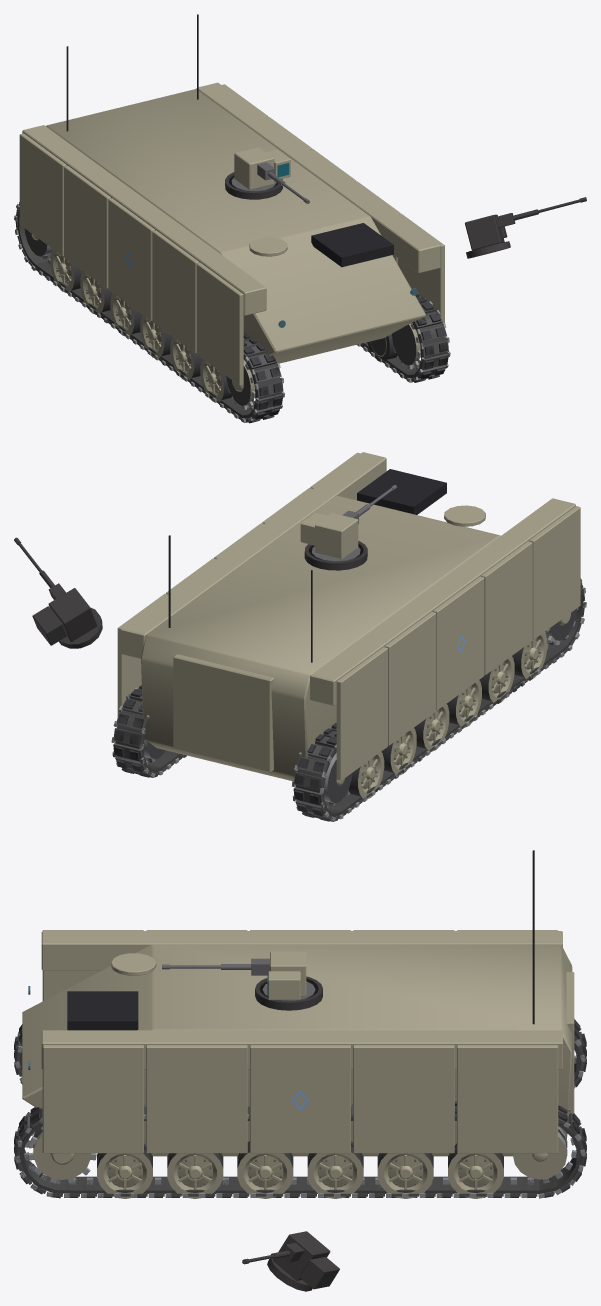
The model's file is apc__saad_m113.glb.
The picture shows the model from 3 angles, top to bottom: view 1: azimuth 30°, elevation 25°; view 2: azimuth 150°, elevation 25°; view 3: azimuth 270°, elevation 25°; orthographic projection. The views are drawn at different scales.
Visible parts, largest first — view 1: Hull_Mesh, Wreck, Track_L_Mesh, Track_R_Mesh, Turret_Mesh, Sprocket_R_Mesh, Wheel_L0_Mesh, Wheel_L4_Mesh, Wheel_L1_Mesh, Wheel_L3_Mesh, Wheel_L2_Mesh, Wheel_L5_Mesh (+1 smaller); view 2: Hull_Mesh, Wreck, Track_L_Mesh, Track_R_Mesh, Turret_Mesh, Wheel_L2_Mesh, Wheel_L0_Mesh, Wheel_L5_Mesh, Wheel_L1_Mesh, Wheel_L3_Mesh, Wheel_L4_Mesh, Idler_L_Mesh (+1 smaller); view 3: Hull_Mesh, Track_R_Mesh, Wreck, Wheel_R3_Mesh, Wheel_R2_Mesh, Wheel_R0_Mesh, Wheel_R5_Mesh, Wheel_R1_Mesh, Wheel_R4_Mesh, Turret_Mesh, Sprocket_R_Mesh, Idler_R_Mesh (+2 smaller).
Boxes of the visible parts, x1,y1,x2,y2 form: Hull_Mesh: (19, 14, 444, 385); Wreck: (14, 172, 586, 421); Track_L_Mesh: (14, 202, 284, 423); Track_R_Mesh: (357, 293, 450, 382); Turret_Mesh: (231, 147, 290, 191); Sprocket_R_Mesh: (390, 323, 420, 369); Wheel_L0_Mesh: (50, 249, 82, 292); Wheel_L4_Mesh: (170, 337, 202, 379); Wheel_L1_Mesh: (80, 271, 112, 314); Wheel_L3_Mesh: (140, 315, 172, 357); Wheel_L2_Mesh: (110, 293, 142, 336); Wheel_L5_Mesh: (200, 359, 231, 401); Hull_Mesh: (117, 452, 580, 781); Wreck: (14, 537, 585, 820); Track_L_Mesh: (291, 580, 586, 821); Track_R_Mesh: (111, 685, 186, 777); Turret_Mesh: (300, 513, 360, 561); Wheel_L2_Mesh: (414, 704, 449, 751); Wheel_L0_Mesh: (348, 751, 384, 798); Wheel_L5_Mesh: (512, 632, 547, 678); Wheel_L1_Mesh: (381, 728, 416, 775); Wheel_L3_Mesh: (447, 680, 481, 727); Wheel_L4_Mesh: (479, 656, 514, 703); Idler_L_Mesh: (324, 753, 352, 803); Hull_Mesh: (22, 850, 574, 1156); Track_R_Mesh: (14, 1101, 586, 1198); Wreck: (14, 976, 586, 1291); Wheel_R3_Mesh: (237, 1141, 293, 1198); Wheel_R2_Mesh: (307, 1141, 363, 1198); Wheel_R0_Mesh: (448, 1143, 503, 1198); Wheel_R5_Mesh: (97, 1143, 152, 1198); Wheel_R1_Mesh: (377, 1153, 433, 1198); Wheel_R4_Mesh: (167, 1153, 223, 1198); Turret_Mesh: (262, 951, 315, 1000); Sprocket_R_Mesh: (28, 1126, 96, 1183); Idler_R_Mesh: (512, 1126, 567, 1179).
Size of what is drawn, in the model's own units: 6.19 by 2.99 by 6.04.
